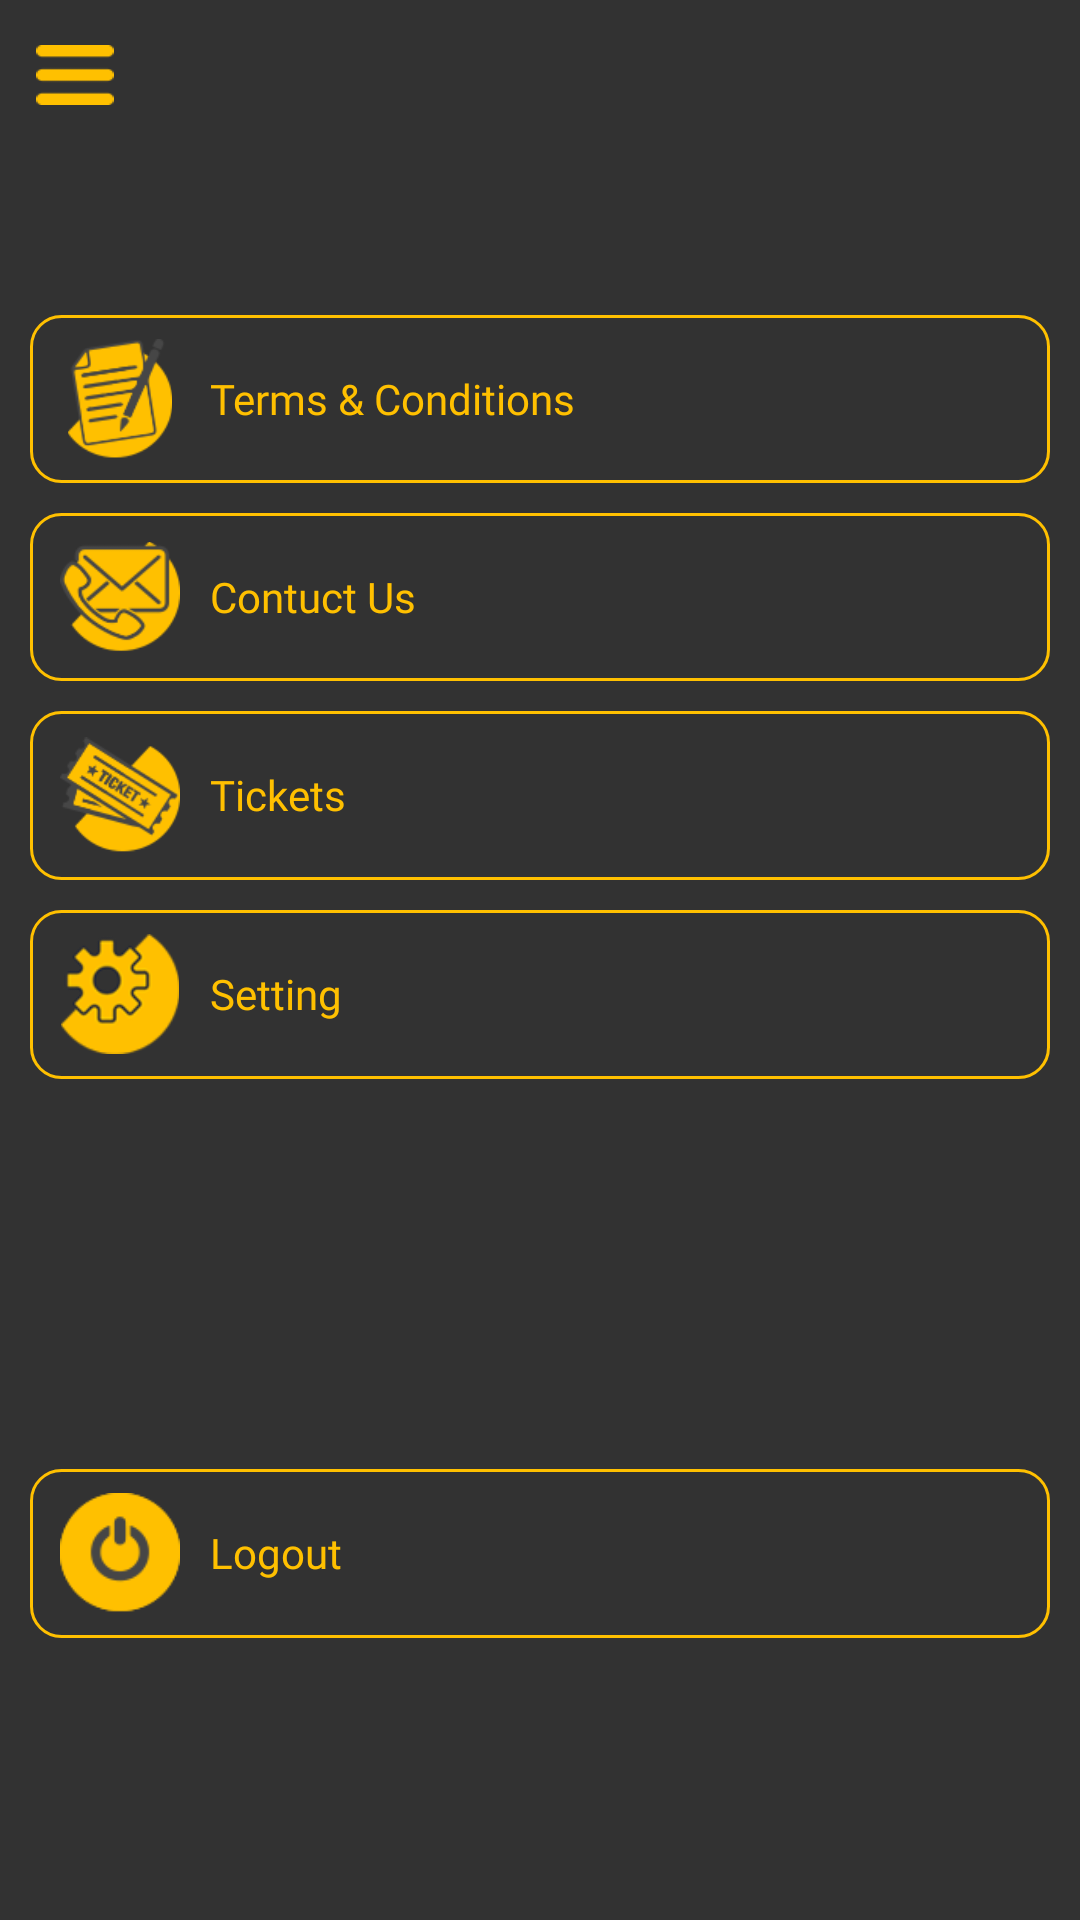

Icon click points for this 1080w x 1920h phone screenshot, format [x,y]:
contactfilled: [121,596]
menuiconyellow: [75,75]
tncfilled: [120,399]
